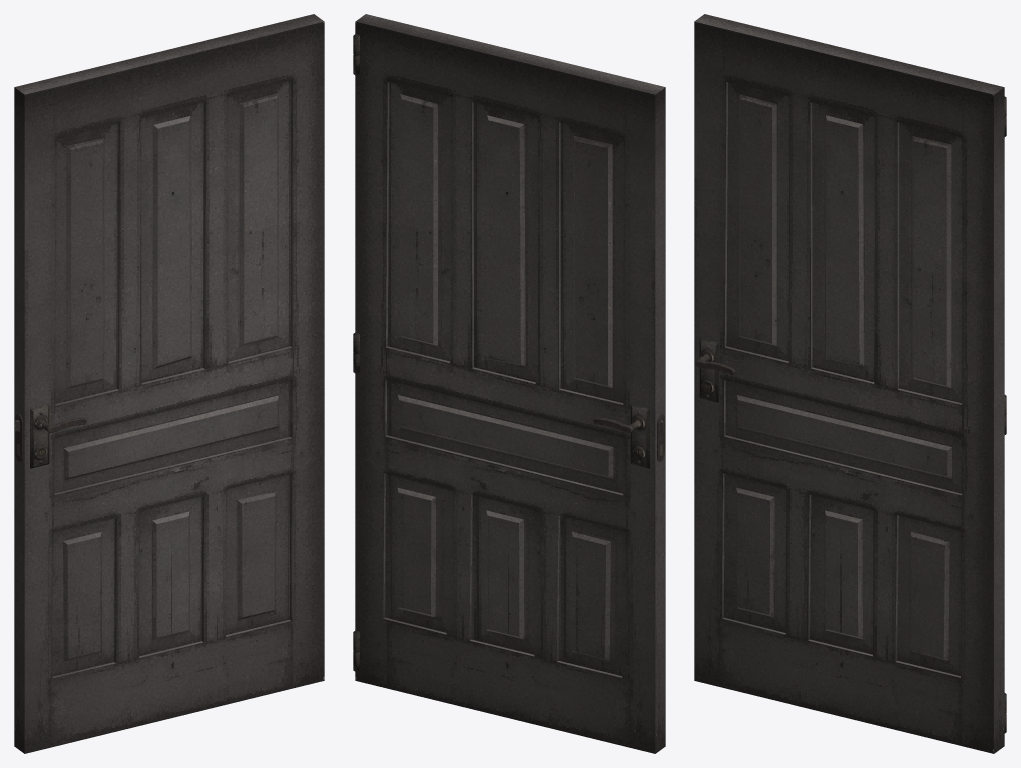
Rendered from door_1.glb.
The picture shows the model from 3 angles, left to right: view 1: azimuth 30°, elevation 25°; view 2: azimuth 150°, elevation 25°; view 3: azimuth 330°, elevation 25°; orthographic projection.
Parts seen in each view (by area): view 1: door_1; view 2: door_1; view 3: door_1.
Boxes of the visible parts, left/top/right/bottom form: door_1: left=14, top=14, right=324, bottom=753; door_1: left=353, top=14, right=665, bottom=753; door_1: left=694, top=14, right=1006, bottom=753.
Bounding box in the file's own units: 1.01 × 2.1 × 0.194.
4 materials, 4 textured.
